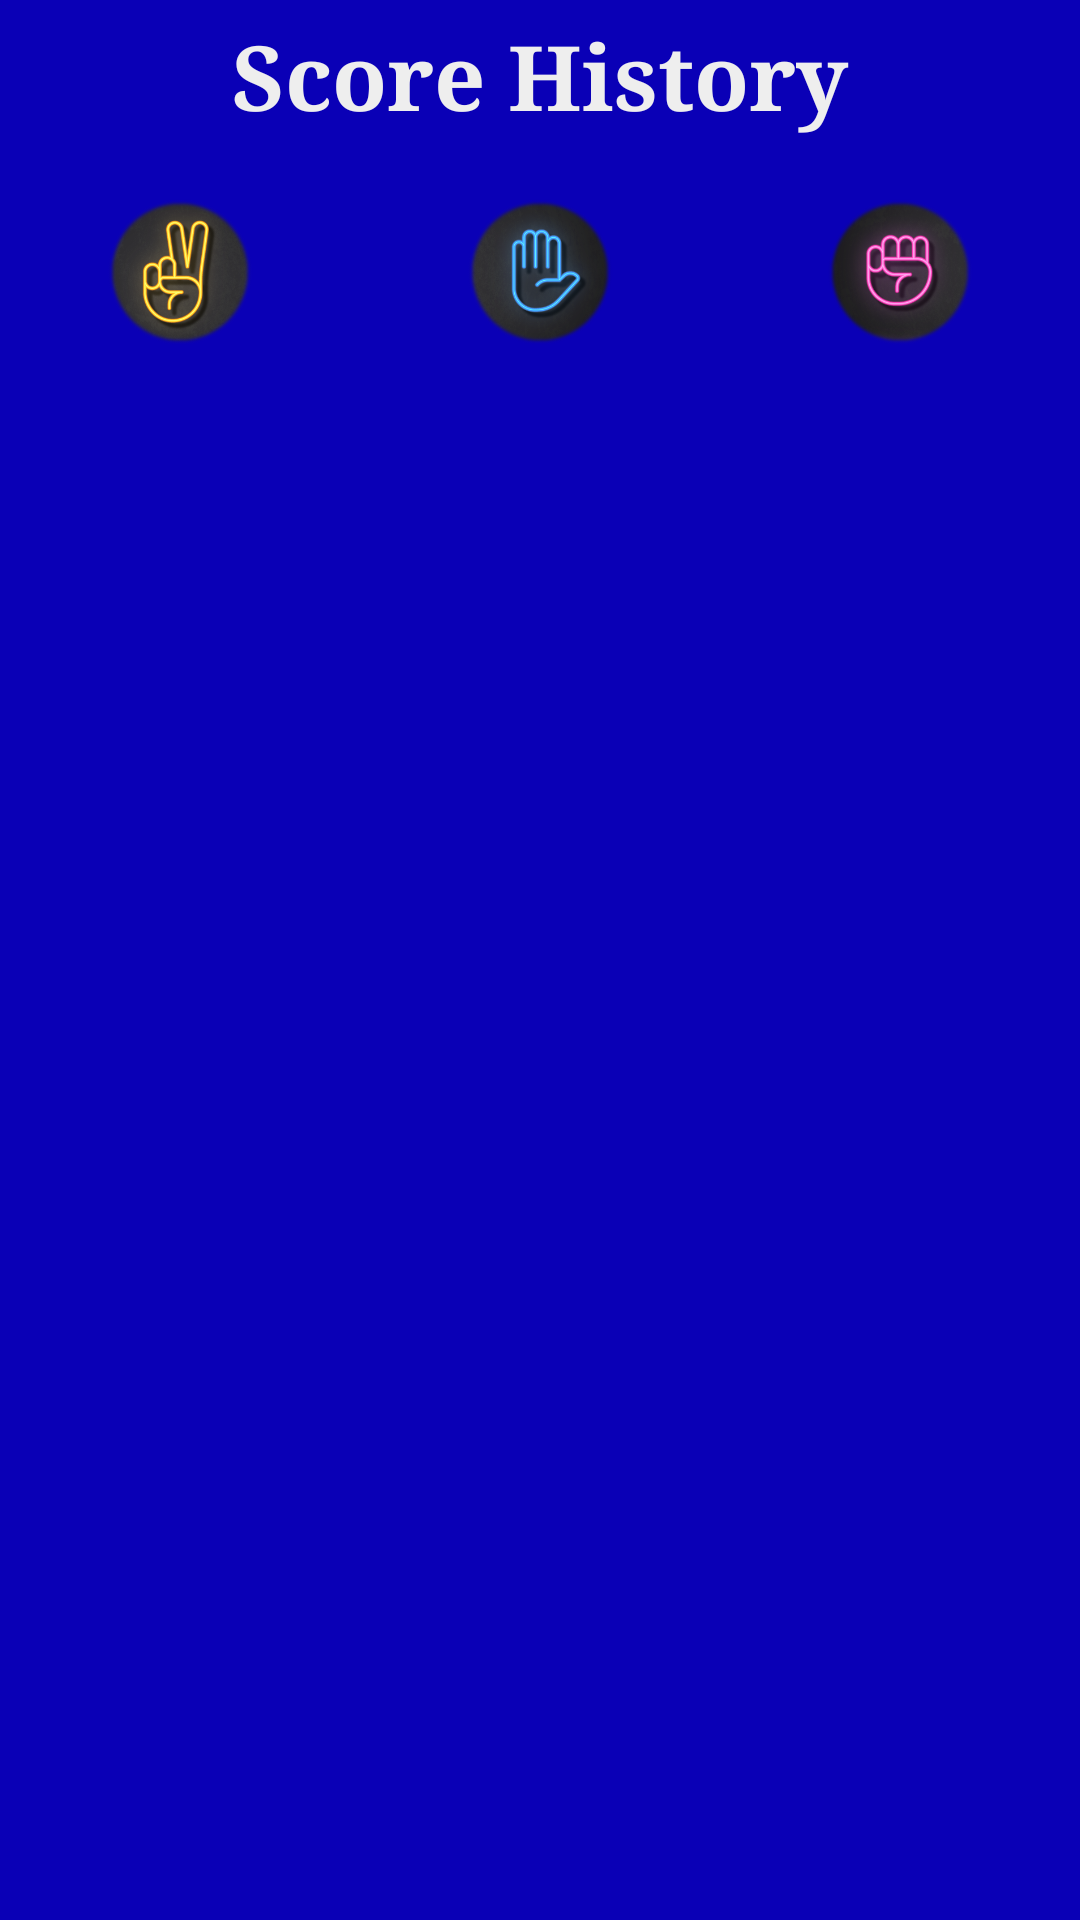

Icon click points for this 1080px x 1920px phone screenshot, format point (x, y):
paper: point (540, 272)
scissors: point (180, 272)
stone: point (900, 272)
